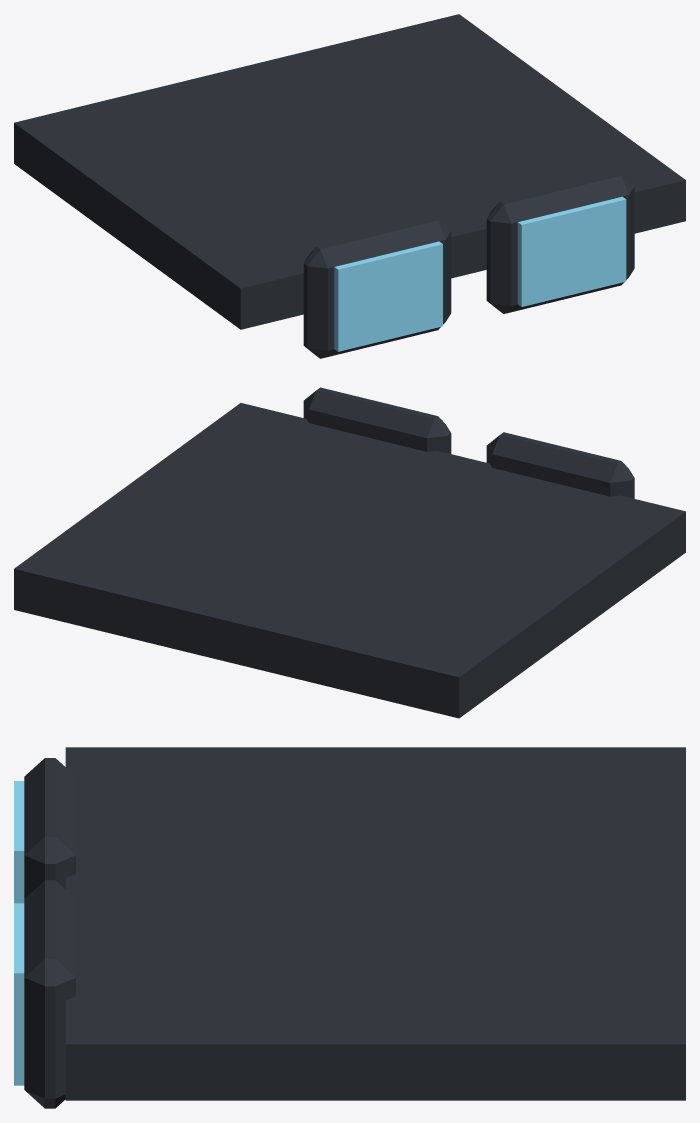
File: face_goggles.glb
3 views of the same model, one above another, from view 1: azimuth 30°, elevation 25°; view 2: azimuth 150°, elevation 25°; view 3: azimuth 270°, elevation 25° (orthographic). The views are drawn at different scales.
Parts seen in each view (by area): view 1: face_goggles; view 2: face_goggles; view 3: face_goggles.
Boxes of the visible parts, x1=… form: face_goggles: x1=14, y1=14, x2=685, y2=358; face_goggles: x1=14, y1=387, x2=685, y2=718; face_goggles: x1=14, y1=747, x2=685, y2=1108.
Bounding box in the file's own units: 0.68 × 0.16 × 0.65.
